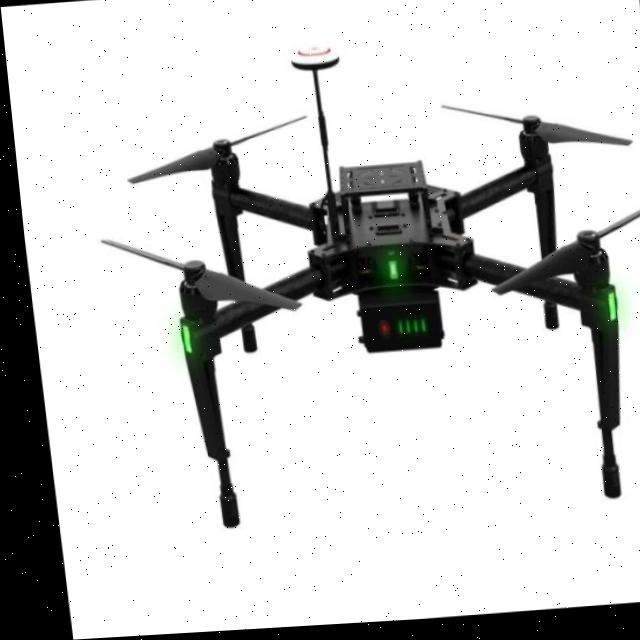drones: (45, 0, 640, 584)
